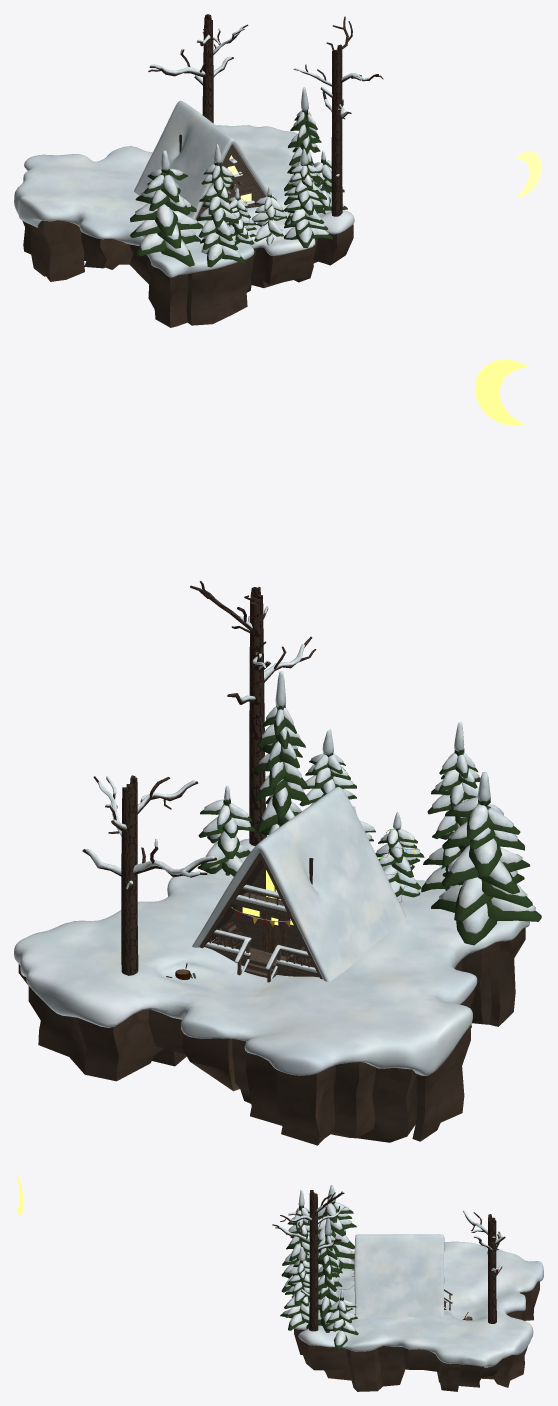
3 views of the same model, one above another, from view 1: azimuth 30°, elevation 25°; view 2: azimuth 150°, elevation 25°; view 3: azimuth 270°, elevation 25° (orthographic). The views are drawn at different scales.
Parts seen in each view (by area): view 1: Ground_snow_Fround_snow_0, Ground_05 - Default_0, Fir_snow, Snow_roof_Snow_roof_0, Tree_Fir_big_01_Fir_needles_st_0, Tree_dry001_Bark_st_0, Tree_dry, Tree_Fir_tall_02, Tree_Fir_tall_03, House_House_st_0, Tree_Fir_tall_01, Snow_tree&decor_Snow_tree&decor_0 (+2 smaller); view 2: Ground_snow_Fround_snow_0, Ground_05 - Default_0, Snow_roof_Snow_roof_0, Fir_snow, House_House_st_0, Tree_Fir_big_01_Fir_needles_st_0, Tree_dry001_Bark_st_0, Tree_dry, Snow_tree&decor_Snow_tree&decor_0, Tree_Fir_tall_01, Circle001, Tree_Fir_tall_02 (+2 smaller); view 3: Ground_snow_Fround_snow_0, Snow_roof_Snow_roof_0, Ground_05 - Default_0, Fir_snow, Tree_dry001_Bark_st_0, Tree_dry, Tree_Fir_tall_01, Tree_Fir_big_01_Fir_needles_st_0, Snow_tree&decor_Snow_tree&decor_0, Tree_Fir_tall_03, Tree_Fir_tall_02, Tree_Fir_small_02_Fir_needles_st_0.
Part boxes in pixels (<box>): Ground_snow_Fround_snow_0: <box>14,125,354,277</box>; Ground_05 - Default_0: <box>22,220,353,327</box>; Fir_snow: <box>135,87,343,260</box>; Snow_roof_Snow_roof_0: <box>134,100,267,218</box>; Tree_Fir_big_01_Fir_needles_st_0: <box>130,169,202,266</box>; Tree_dry001_Bark_st_0: <box>293,16,383,216</box>; Tree_dry: <box>148,14,248,123</box>; Tree_Fir_tall_02: <box>196,162,245,267</box>; Tree_Fir_tall_03: <box>283,163,332,247</box>; House_House_st_0: <box>179,134,265,219</box>; Tree_Fir_tall_01: <box>284,110,326,224</box>; Snow_tree&decor_Snow_tree&decor_0: <box>150,26,369,204</box>; Ground_snow_Fround_snow_0: <box>14,838,529,1075</box>; Ground_05 - Default_0: <box>18,927,525,1145</box>; Snow_roof_Snow_roof_0: <box>192,787,405,981</box>; Fir_snow: <box>203,671,535,933</box>; House_House_st_0: <box>199,852,322,982</box>; Tree_Fir_big_01_Fir_needles_st_0: <box>431,799,541,945</box>; Tree_dry001_Bark_st_0: <box>190,581,316,846</box>; Tree_dry: <box>82,775,216,975</box>; Snow_tree&decor_Snow_tree&decor_0: <box>86,606,317,979</box>; Tree_Fir_tall_01: <box>253,704,309,835</box>; Circle001: <box>475,359,526,425</box>; Tree_Fir_tall_02: <box>421,748,480,892</box>; Ground_snow_Fround_snow_0: <box>292,1241,543,1367</box>; Snow_roof_Snow_roof_0: <box>354,1234,444,1319</box>; Ground_05 - Default_0: <box>294,1281,539,1391</box>; Fir_snow: <box>283,1185,355,1345</box>; Tree_dry001_Bark_st_0: <box>272,1190,345,1331</box>; Tree_dry: <box>463,1211,505,1323</box>; Tree_Fir_tall_01: <box>306,1234,342,1332</box>; Tree_Fir_big_01_Fir_needles_st_0: <box>318,1201,356,1277</box>; Snow_tree&decor_Snow_tree&decor_0: <box>279,1204,503,1309</box>; Tree_Fir_tall_03: <box>280,1260,309,1330</box>; Tree_Fir_tall_02: <box>281,1206,309,1292</box>; Tree_Fir_small_02_Fir_needles_st_0: <box>324,1297,358,1349</box>.
Size of the model in its own units: 275 by 251 by 542.
Materials: 16 (10 with a texture image).
